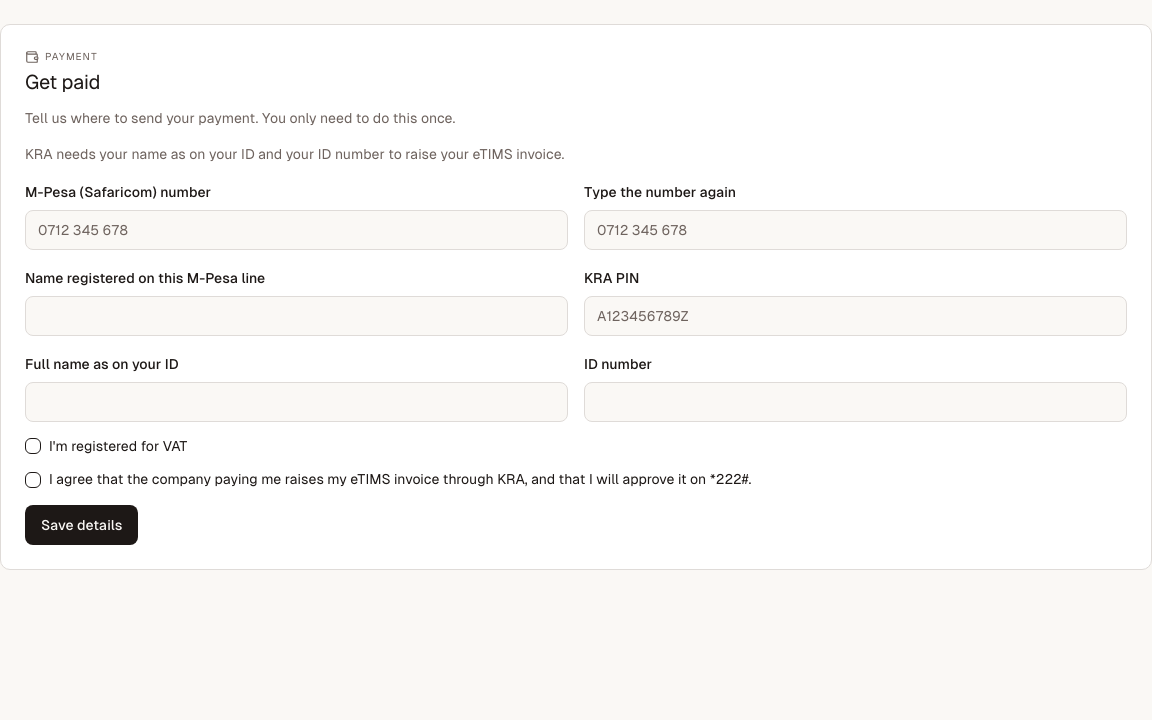
Test: GetPaidCard › VAT-registered creators get no consent box and a different note
Click the checkbox named "I'm registered for VAT" next to "I'm registered for VAT".
click(33, 446)  # box [25,438,41,454]
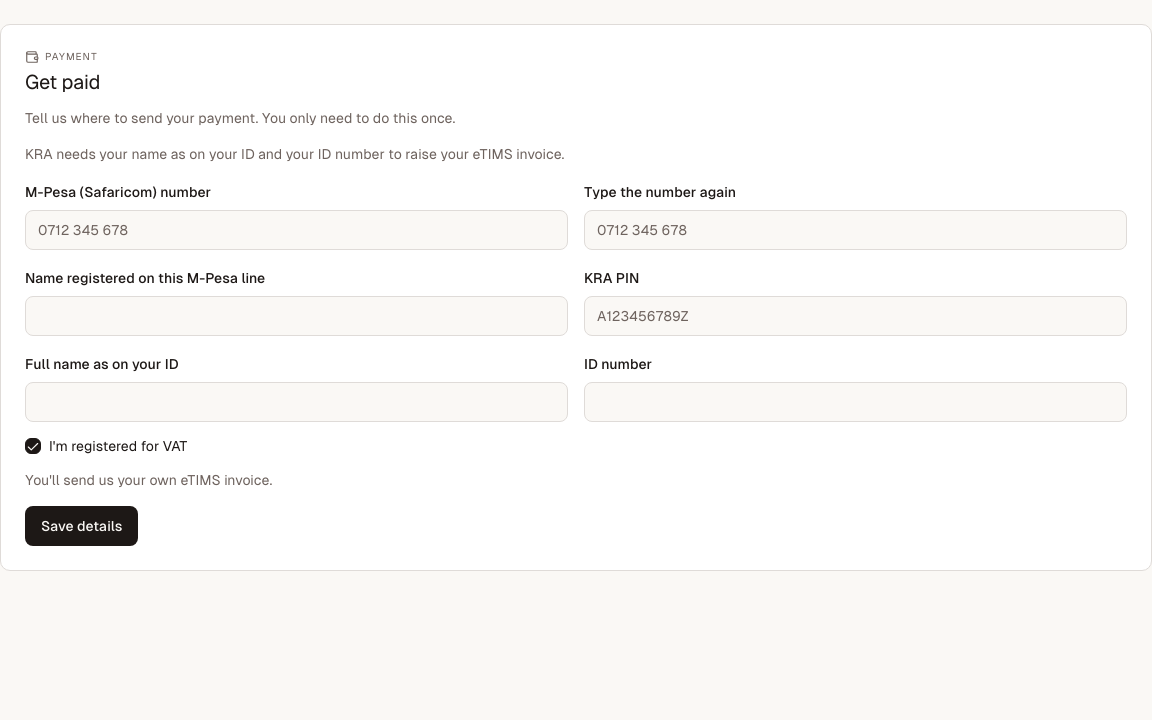
Now the label labelled "approve it on *222#" is gone
Now the text "You'll send us your own eTIMS invoice." is shown, box [25,472,272,488]
